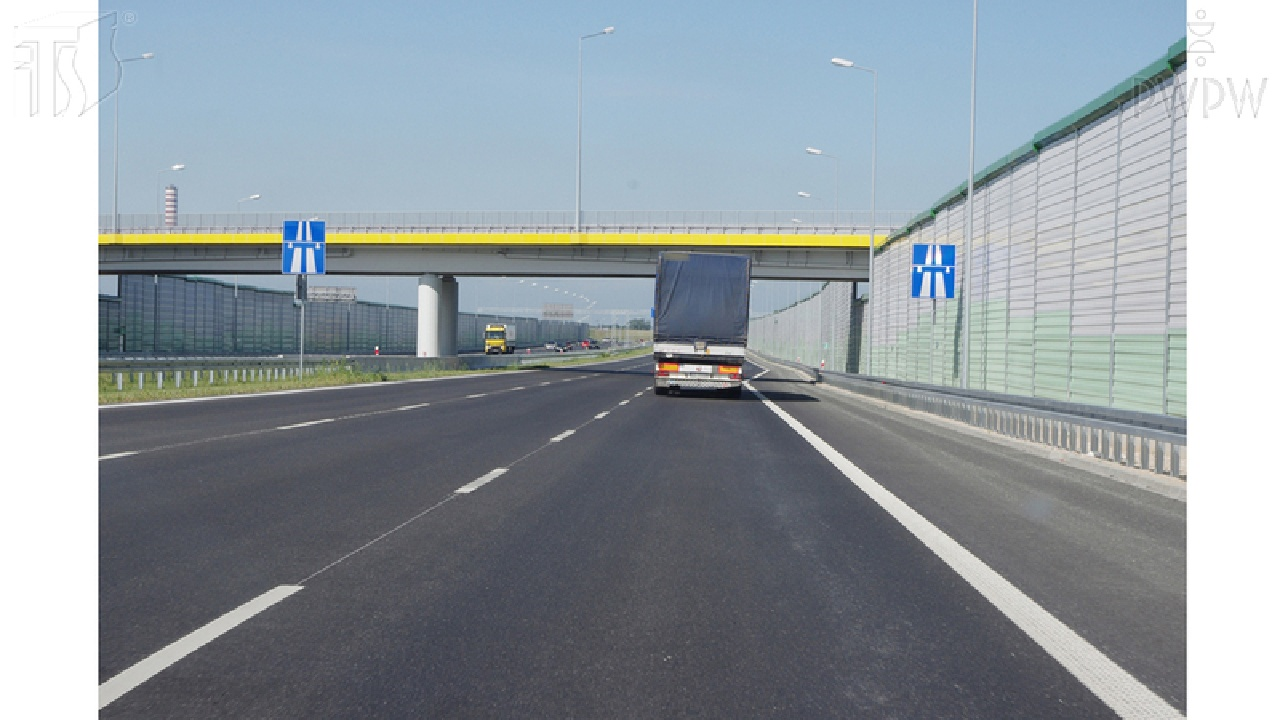D9: (909, 240, 959, 302), (280, 219, 329, 279)
